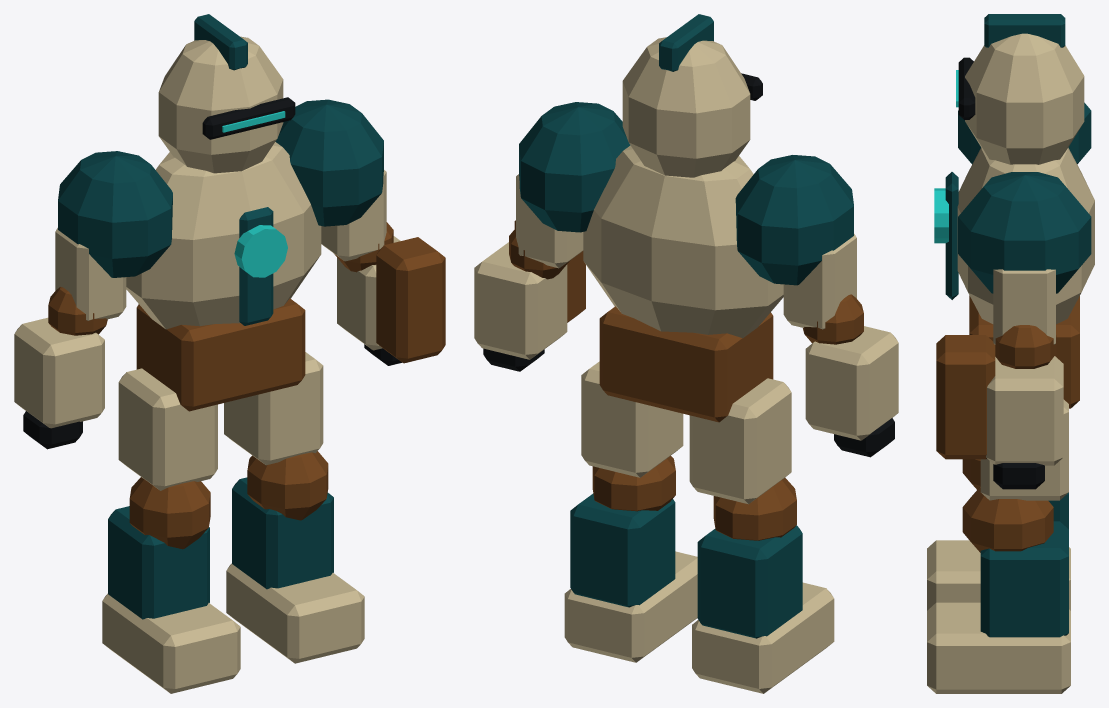
Rendered from relic-marshal-static-v1.fbx.
The picture shows the model from 3 angles, left to right: view 1: azimuth 30°, elevation 25°; view 2: azimuth 150°, elevation 25°; view 3: azimuth 270°, elevation 25°; orthographic projection. The views are drawn at different scales.
Parts seen in each view (by area): view 1: RelicMarshalMesh; view 2: RelicMarshalMesh; view 3: RelicMarshalMesh.
Part boxes in pixels (left/top/right/bottom): RelicMarshalMesh: left=14, top=14, right=445, bottom=693; RelicMarshalMesh: left=474, top=14, right=898, bottom=693; RelicMarshalMesh: left=927, top=14, right=1094, bottom=693.
Bounding box in the file's own units: 124 × 45.52 × 188.
Materials: 1 (1 with a texture image).
